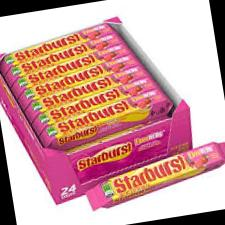Plastik: (7, 29, 171, 140), (83, 139, 225, 195), (66, 121, 172, 165)
